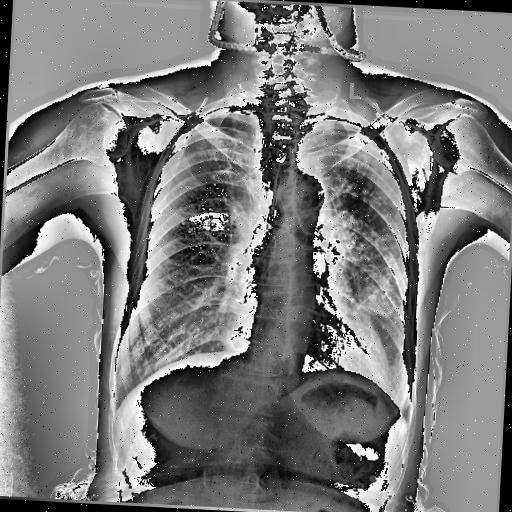0- Aortic enlargement: (280, 172, 330, 222)
13- Pulmonary fibrosis: (326, 178, 412, 318)
3- Cardiomegaly: (222, 322, 392, 388)
4- Consolidation: (326, 178, 412, 318), (351, 276, 393, 316), (356, 274, 394, 318)
5- ILD: (318, 173, 410, 325), (322, 178, 412, 286)
6- Infiltration: (326, 178, 412, 318)
7- Lung Opacity: (318, 173, 410, 325)
8- Nodule-Mass: (318, 173, 410, 325), (356, 274, 394, 318)
